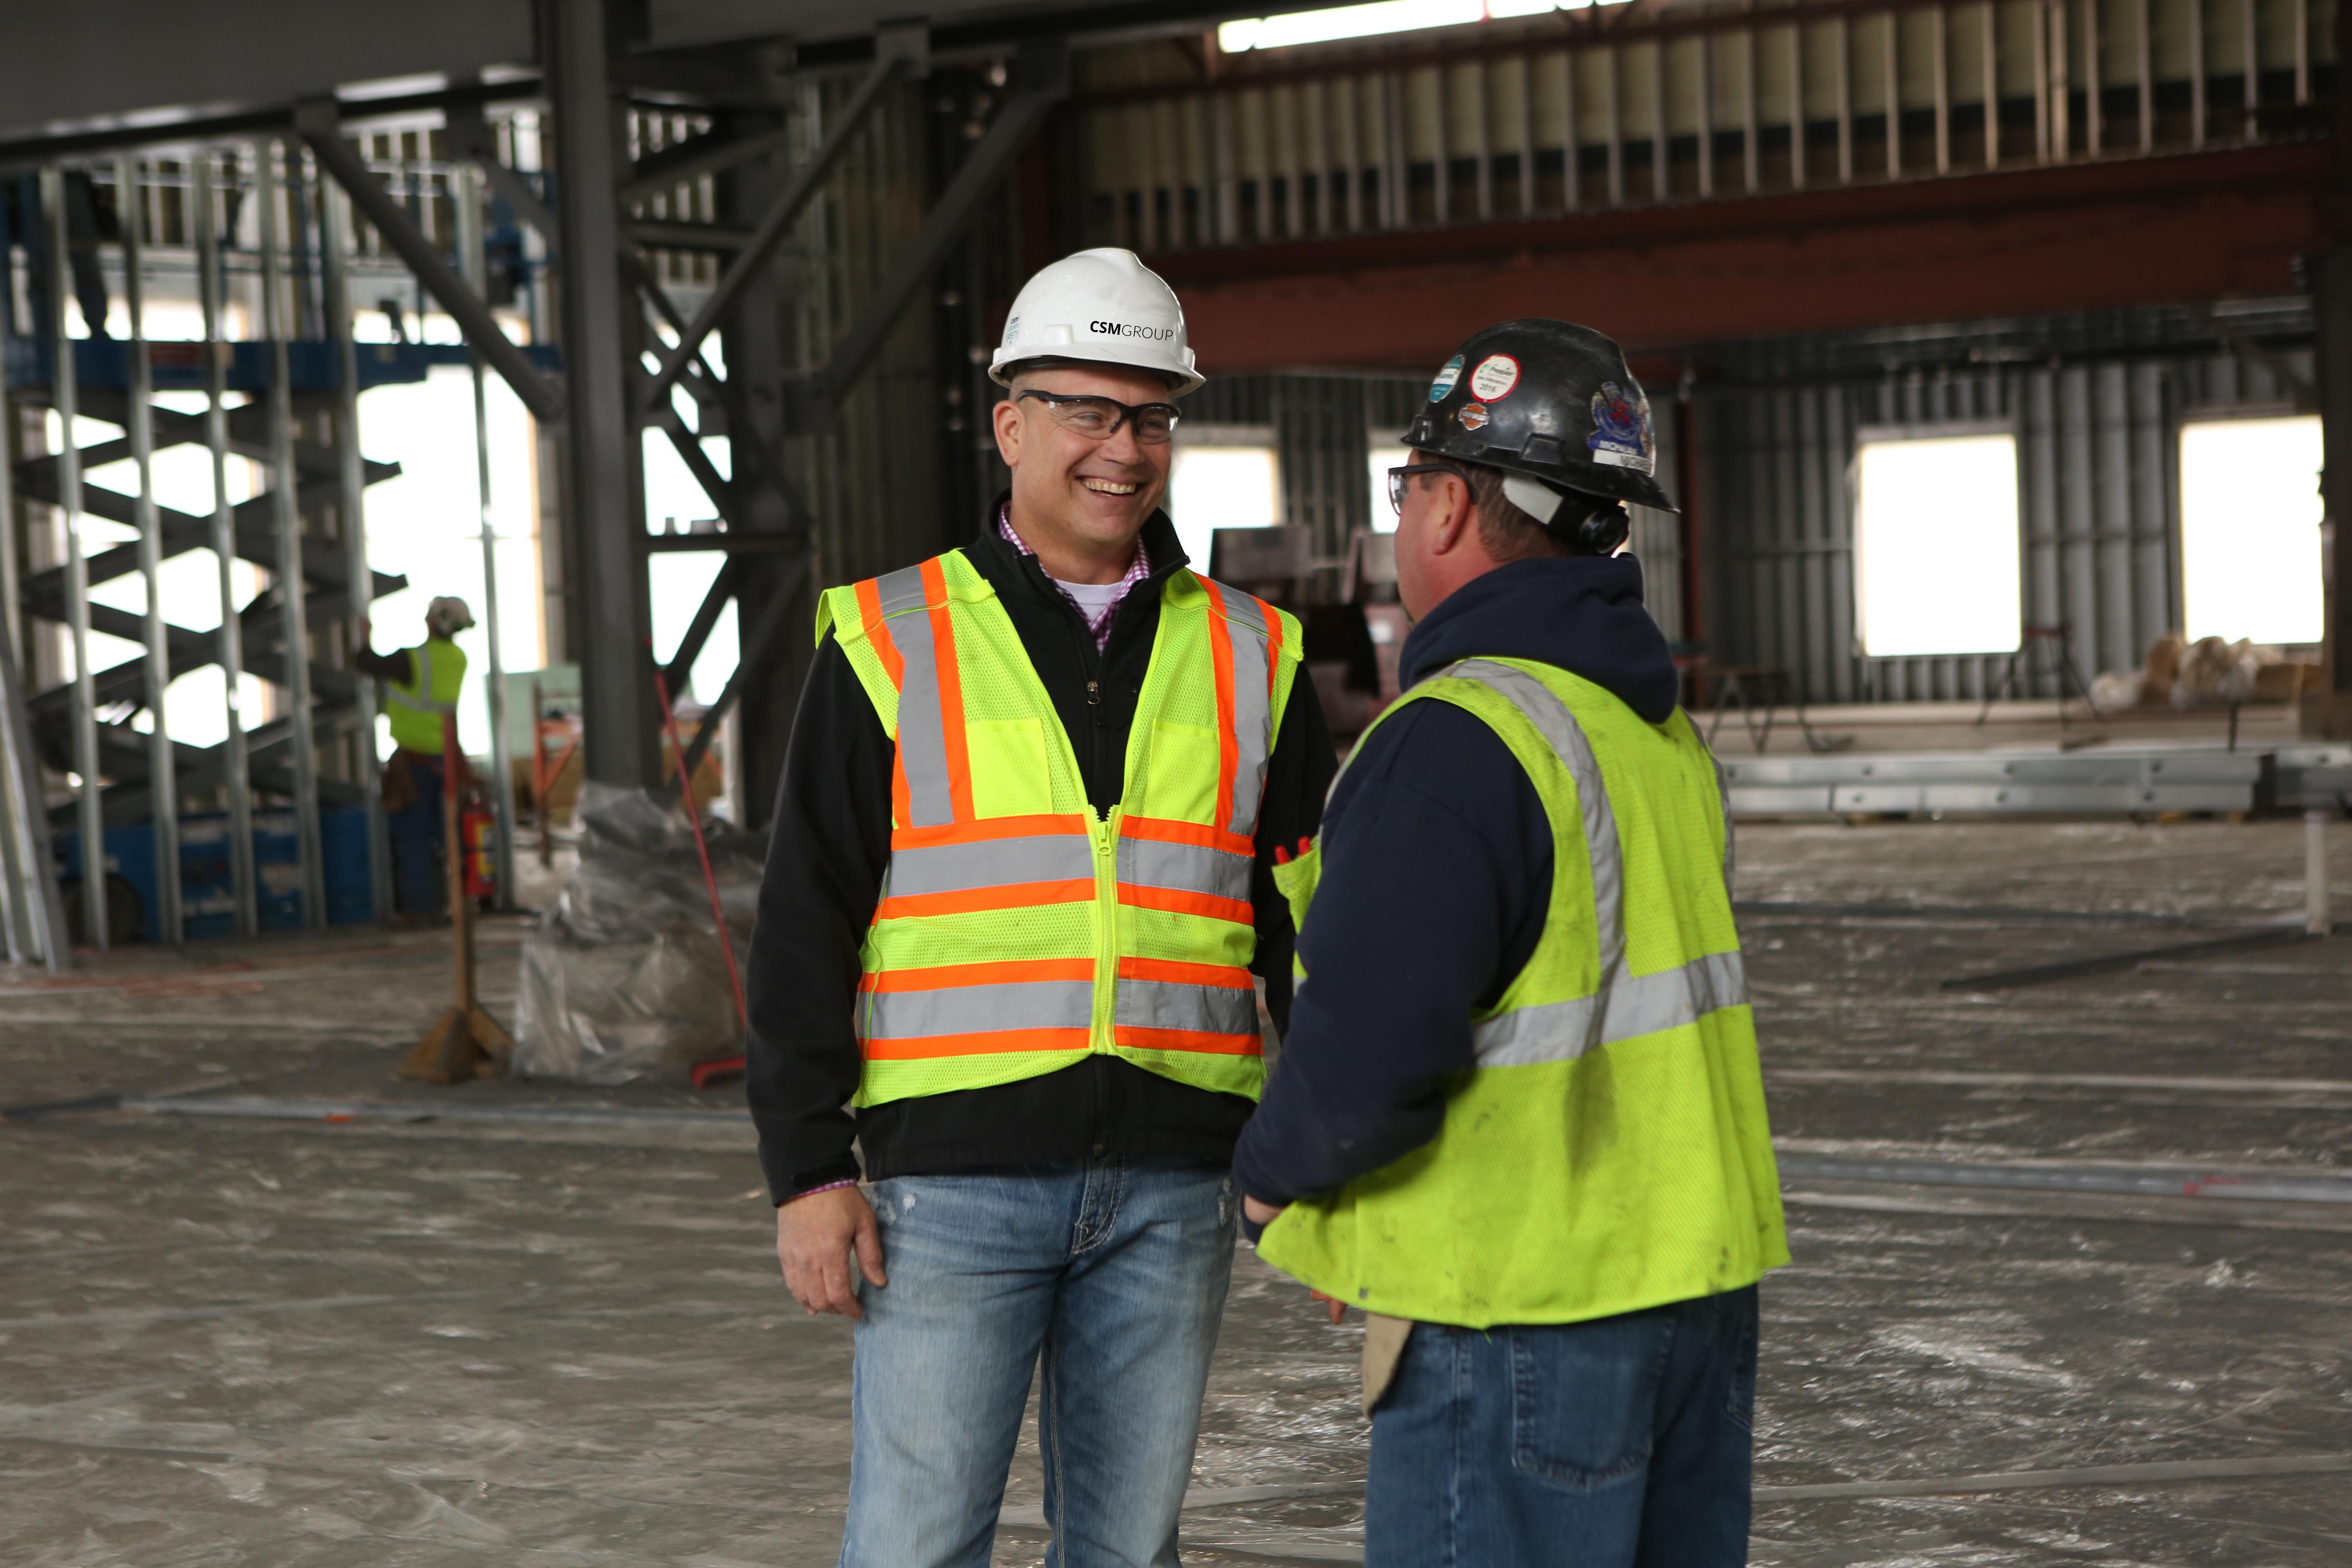helmet: (1405, 318, 1676, 514), (987, 247, 1197, 392), (430, 590, 471, 633)
